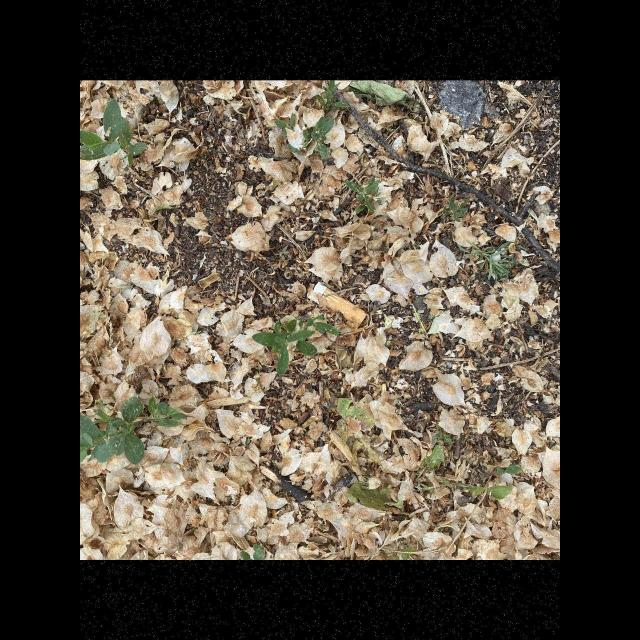cigarette: (306, 281, 367, 328)
